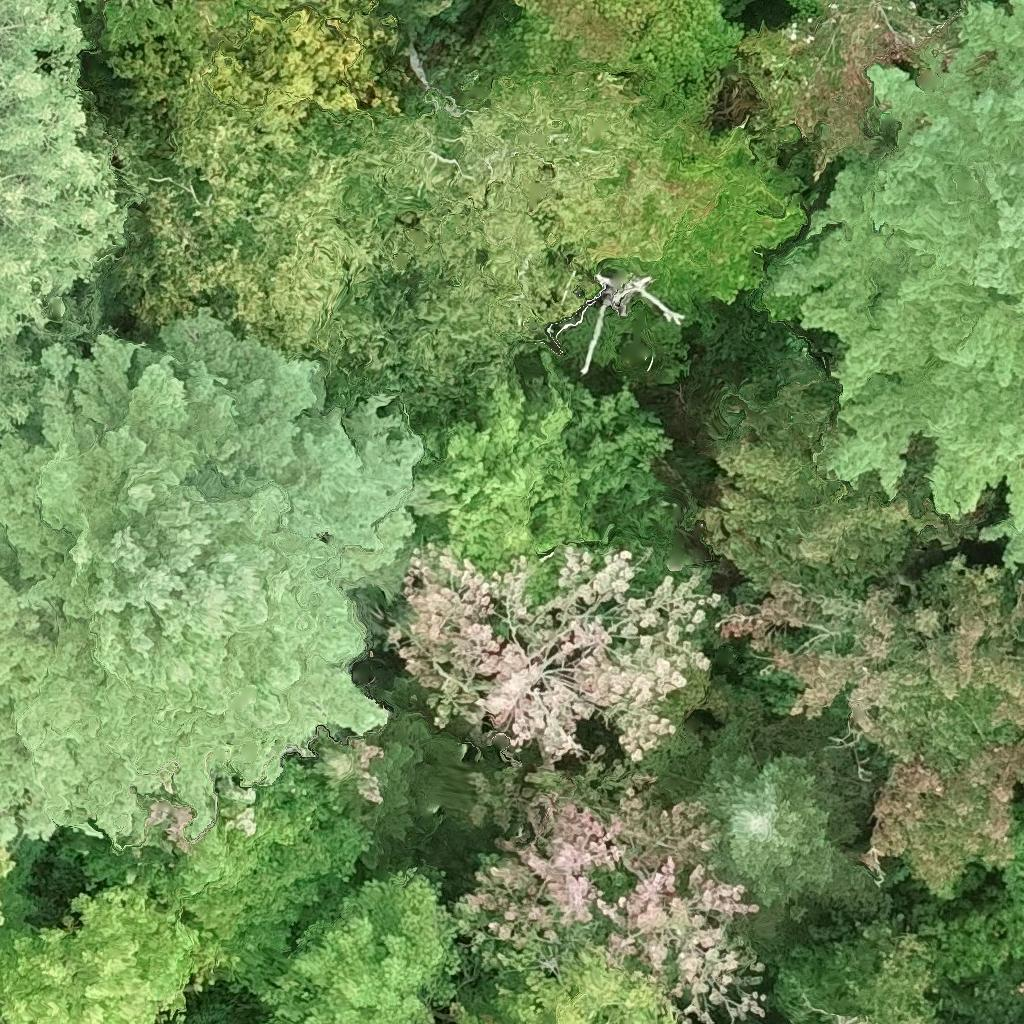crown: (0, 310, 445, 846), (769, 0, 1023, 570), (306, 63, 686, 422), (108, 0, 401, 367), (698, 333, 1006, 596), (595, 93, 806, 323), (0, 0, 133, 339), (791, 0, 972, 183), (494, 0, 742, 125), (730, 0, 831, 144), (100, 0, 333, 59), (574, 267, 686, 372), (662, 316, 672, 319)
